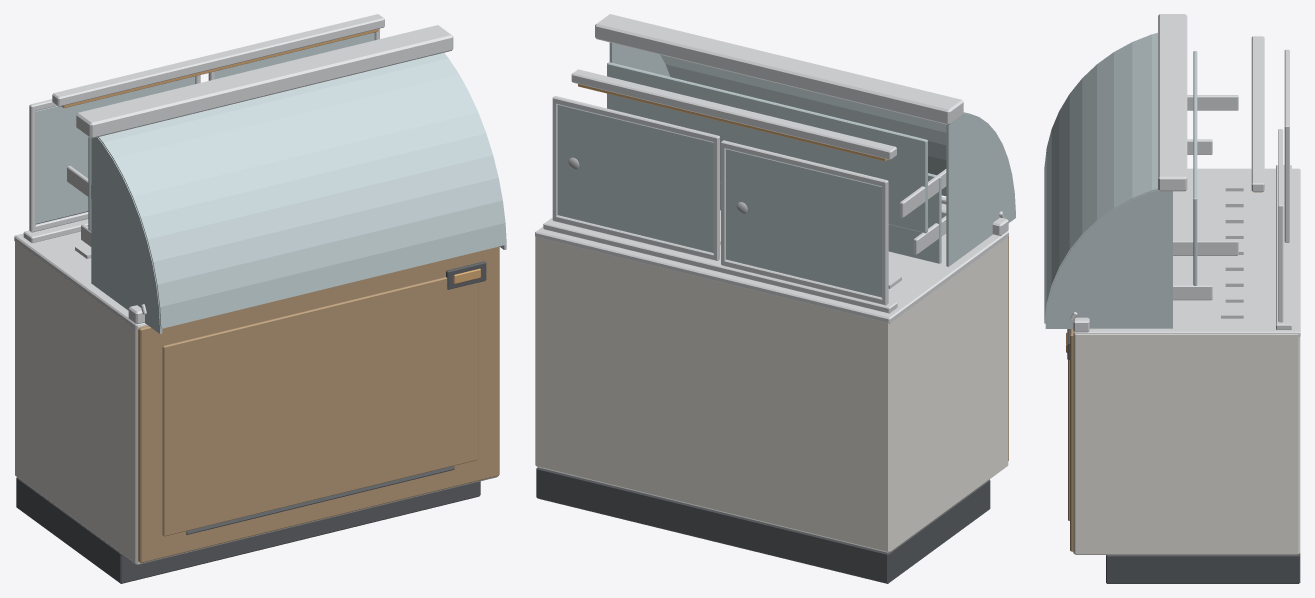
File: pastryCase.glb
3 renders of one model, left to right at view 1: azimuth 30°, elevation 25°; view 2: azimuth 150°, elevation 25°; view 3: azimuth 270°, elevation 25°, orthographic. The views are drawn at different scales.
Visible parts, largest first — view 1: pastry-case-curved-refrigerated, sliding-door-1 (×2), sliding-door-2; view 2: pastry-case-curved-refrigerated, sliding-door-2 (×2), sliding-door-1 (×2); view 3: pastry-case-curved-refrigerated, sliding-door-2, sliding-door-1.
Boxes of the visible parts, x1,y1,x2,y2 form: pastry-case-curved-refrigerated: (14, 14, 506, 583); sliding-door-1 (×2): (29, 75, 200, 232); sliding-door-2: (215, 32, 374, 79); pastry-case-curved-refrigerated: (535, 14, 1015, 583); sliding-door-2 (×2): (552, 96, 719, 260); sliding-door-1 (×2): (721, 140, 888, 305); pastry-case-curved-refrigerated: (1044, 14, 1300, 583); sliding-door-2: (1278, 129, 1283, 322); sliding-door-1: (1284, 49, 1289, 242).
Size of the model in its own units: 1.2 by 1.39 by 0.7908.
